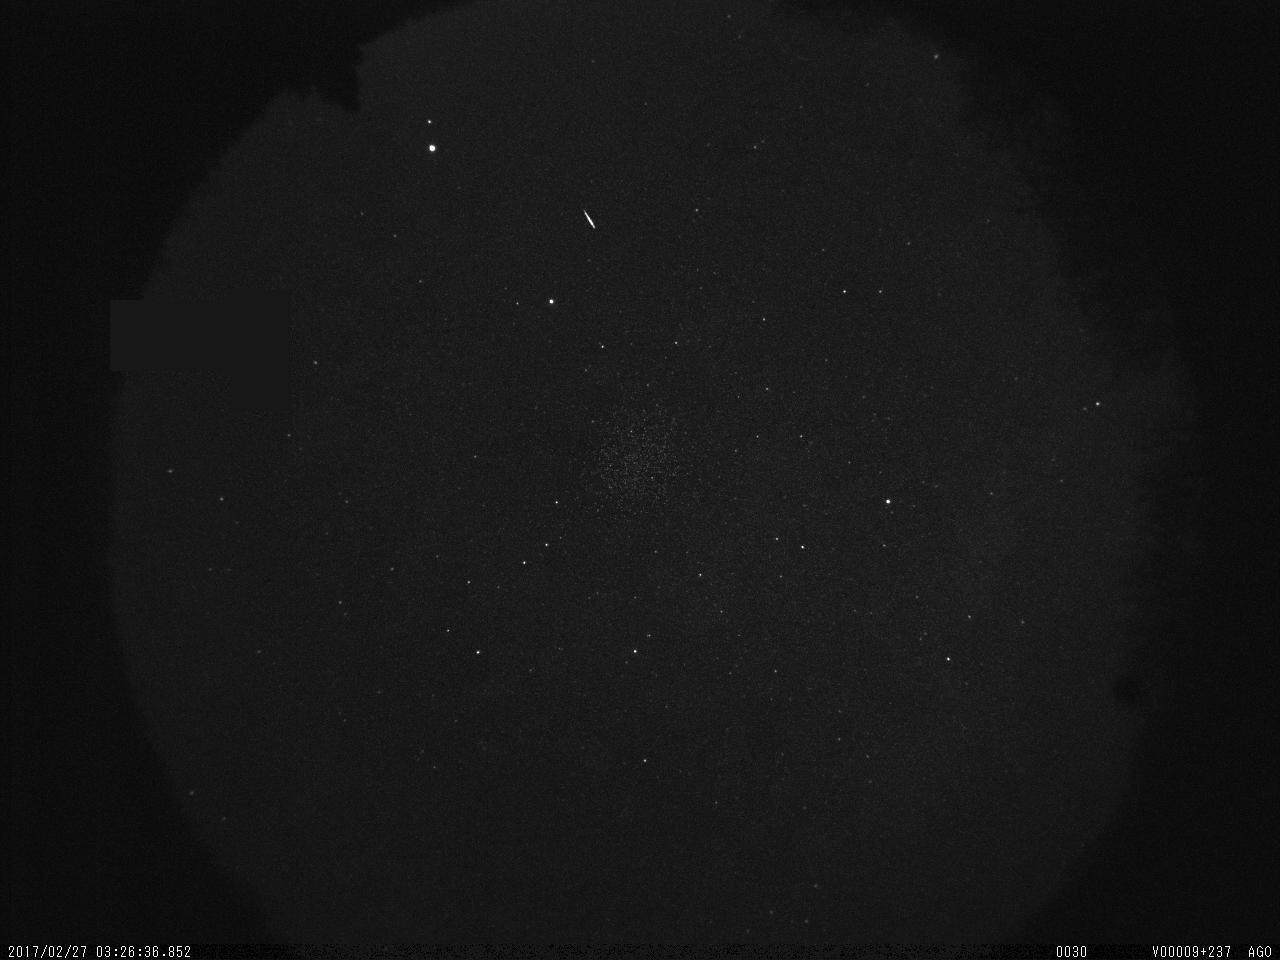meteor: (576, 204, 608, 239)
